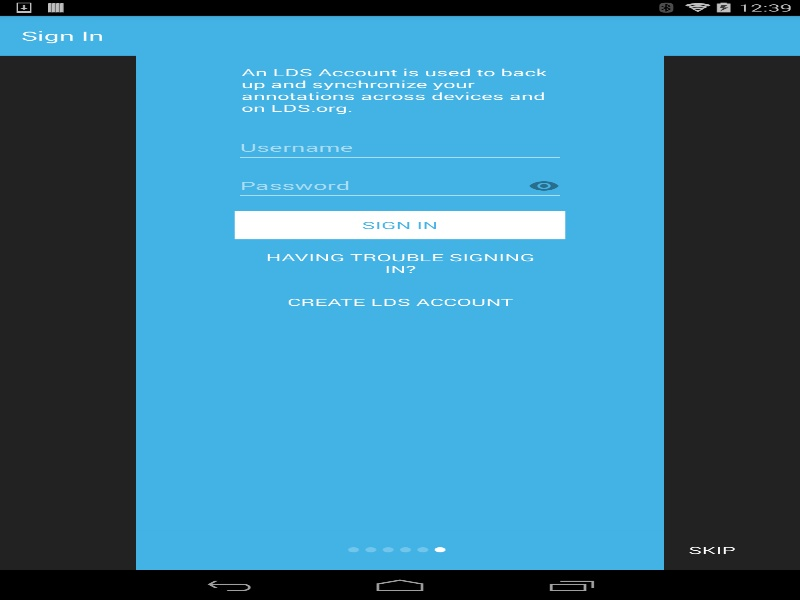Button: (234, 244, 565, 282), (234, 287, 565, 317), (656, 530, 789, 570), (522, 172, 565, 200)
Input: (234, 133, 565, 162), (234, 171, 565, 200)
